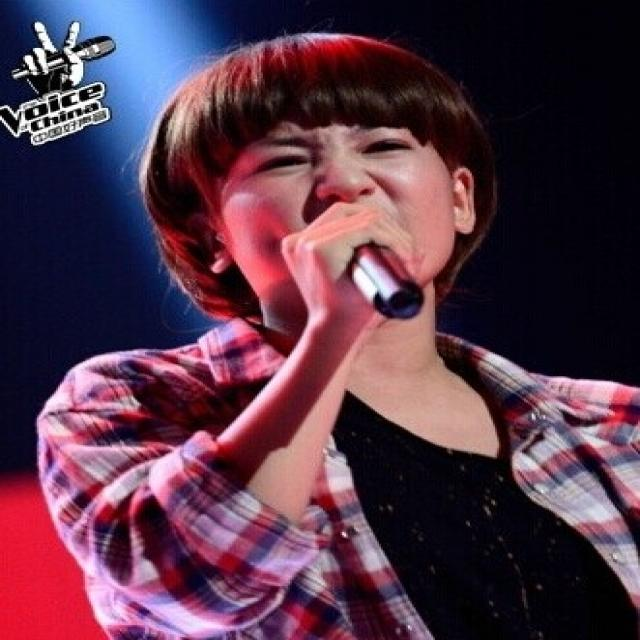nomask: (224, 71, 449, 328)
